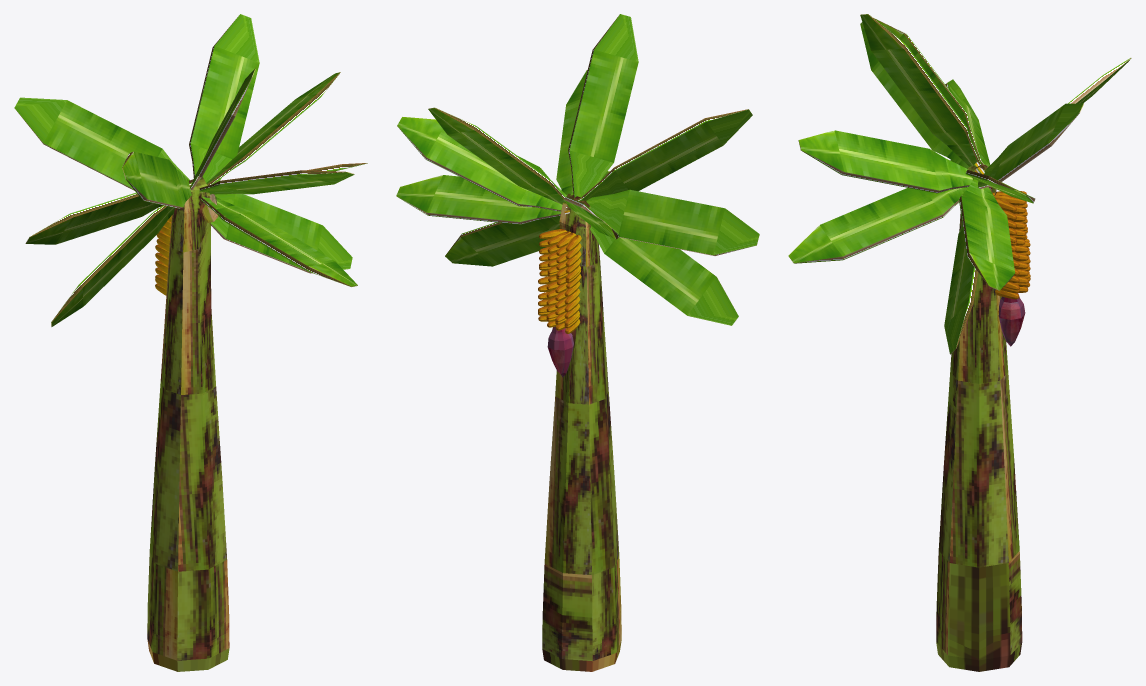
Rendered from BananaTree.fbx.
The picture shows the model from 3 angles, left to right: view 1: azimuth 30°, elevation 25°; view 2: azimuth 150°, elevation 25°; view 3: azimuth 270°, elevation 25°; orthographic projection. The views are drawn at different scales.
Visible parts, largest first — view 1: Cube, Cube.011, Cube.010, Cube.009, Cube.003, Cube.007, Cube.008, Cube.006, Cube.001, Cube.002, Cube.005, Cube.012; view 2: Cube, Cube.005, Cube.007, Cube.008, Cube.006, Cube.002, Cube.004, Cube.012, Cube.009, Cube.011, Cube.001, Cube.013 (+1 smaller); view 3: Cube, Cube.001, Cube.003, Cube.005, Cube.004, Cube.006, Cube.011, Cube.009, Cube.012, Cube.013, Cube.007, Cube.002 (+1 smaller).
Boxes of the visible parts, <box> form: Cube: <box>147,177,229,671</box>; Cube.011: <box>189,14,259,183</box>; Cube.010: <box>14,97,210,194</box>; Cube.009: <box>210,194,352,273</box>; Cube.003: <box>200,196,357,286</box>; Cube.007: <box>25,183,191,244</box>; Cube.008: <box>51,178,201,326</box>; Cube.006: <box>122,151,191,208</box>; Cube.001: <box>199,170,354,194</box>; Cube.002: <box>206,72,340,185</box>; Cube.005: <box>189,68,255,190</box>; Cube.012: <box>155,205,171,295</box>; Cube: <box>542,193,621,671</box>; Cube.005: <box>568,14,638,197</box>; Cube.007: <box>586,189,759,255</box>; Cube.008: <box>570,192,738,325</box>; Cube.006: <box>566,109,752,208</box>; Cube.002: <box>397,117,566,211</box>; Cube.004: <box>396,175,560,224</box>; Cube.012: <box>538,229,581,333</box>; Cube.009: <box>445,216,560,266</box>; Cube.011: <box>428,107,565,204</box>; Cube.001: <box>556,70,587,195</box>; Cube.013: <box>547,326,573,377</box>; Cube: <box>936,163,1022,671</box>; Cube.001: <box>798,130,992,193</box>; Cube.003: <box>788,187,968,263</box>; Cube.005: <box>860,14,984,170</box>; Cube.004: <box>959,171,1014,290</box>; Cube.006: <box>860,18,984,171</box>; Cube.011: <box>978,103,1083,188</box>; Cube.009: <box>944,224,977,354</box>; Cube.012: <box>992,191,1030,299</box>; Cube.013: <box>998,293,1025,346</box>; Cube.007: <box>945,79,990,173</box>; Cube.002: <box>965,169,1035,203</box>.
Bounding box in the file's own units: 445 × 747 × 358.
